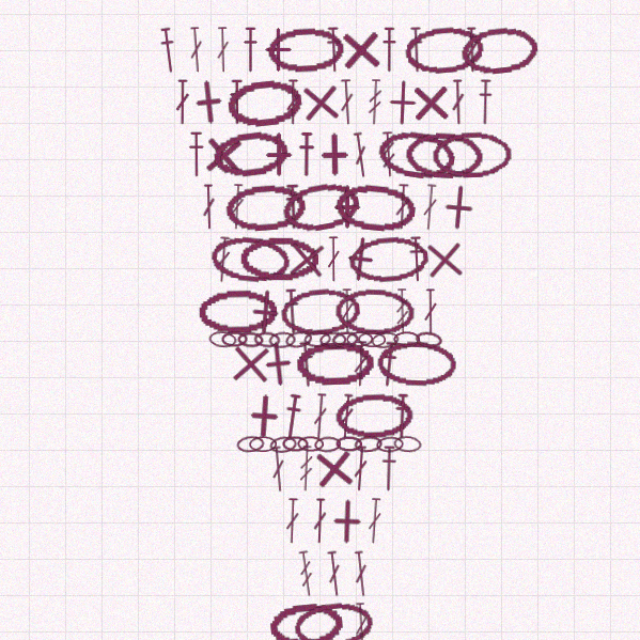chain: (268, 187, 346, 242), (358, 139, 435, 192), (280, 581, 359, 632), (202, 239, 281, 289), (319, 190, 397, 240), (204, 140, 280, 191), (384, 43, 462, 92), (217, 92, 293, 142), (436, 43, 512, 93), (268, 288, 345, 337), (216, 191, 294, 239), (332, 240, 409, 288), (257, 582, 331, 631), (385, 143, 461, 189), (256, 45, 331, 91), (320, 290, 396, 335), (411, 143, 487, 188), (320, 388, 395, 433), (359, 339, 434, 384), (283, 339, 357, 384), (192, 291, 266, 335), (231, 242, 305, 285), (273, 329, 300, 348), (354, 330, 381, 348), (259, 428, 285, 446), (395, 330, 421, 348), (228, 428, 255, 445), (338, 428, 365, 445), (375, 428, 402, 445), (202, 330, 229, 347), (291, 330, 317, 347), (317, 330, 343, 347), (359, 429, 385, 445), (244, 331, 270, 347), (258, 331, 284, 347), (301, 429, 326, 445), (229, 331, 254, 347), (306, 331, 331, 347), (319, 625, 345, 640), (330, 625, 356, 640), (240, 429, 266, 444), (342, 331, 368, 346), (268, 625, 293, 640), (283, 625, 308, 640), (294, 625, 319, 640), (304, 625, 329, 640), (271, 429, 296, 444), (285, 429, 310, 444), (321, 429, 346, 444), (214, 331, 239, 346), (331, 331, 356, 346), (375, 331, 400, 346)
double: (335, 144, 354, 188), (311, 536, 329, 580), (336, 536, 354, 580), (207, 242, 225, 286), (259, 438, 276, 482), (323, 389, 340, 433), (401, 193, 418, 237), (349, 487, 366, 530), (336, 438, 353, 481), (298, 389, 315, 432), (336, 340, 353, 383), (375, 193, 392, 236), (323, 95, 340, 138), (182, 46, 199, 89), (337, 585, 353, 628), (221, 193, 237, 236), (273, 487, 288, 530), (299, 487, 314, 530), (195, 193, 210, 236), (170, 95, 185, 138), (428, 95, 443, 138), (208, 46, 223, 89), (441, 46, 456, 89), (325, 291, 339, 334), (403, 291, 417, 334), (312, 242, 326, 285), (274, 95, 288, 138)
half_double: (270, 389, 292, 433), (154, 46, 175, 90), (284, 340, 304, 384), (361, 340, 381, 384), (271, 291, 290, 334), (362, 438, 380, 481), (388, 242, 406, 285), (272, 193, 290, 236), (375, 389, 392, 432), (182, 144, 199, 187), (285, 144, 302, 187), (220, 95, 237, 138), (233, 46, 250, 89), (311, 46, 328, 89), (388, 46, 405, 89), (453, 95, 469, 138), (363, 46, 379, 89)
single: (296, 436, 343, 483), (244, 338, 291, 385), (321, 240, 368, 287), (179, 93, 226, 140), (232, 290, 278, 336), (271, 241, 317, 287), (400, 241, 446, 287), (413, 192, 459, 238), (193, 143, 239, 189), (284, 94, 330, 140), (232, 388, 277, 433), (219, 339, 264, 384), (322, 45, 367, 90), (310, 487, 354, 531), (362, 95, 406, 139), (388, 95, 432, 139), (310, 193, 353, 236), (246, 144, 289, 187), (298, 144, 341, 187), (246, 46, 289, 89)
treble: (284, 536, 303, 580), (362, 144, 379, 187), (350, 95, 366, 138), (286, 438, 301, 481), (376, 291, 391, 334)
